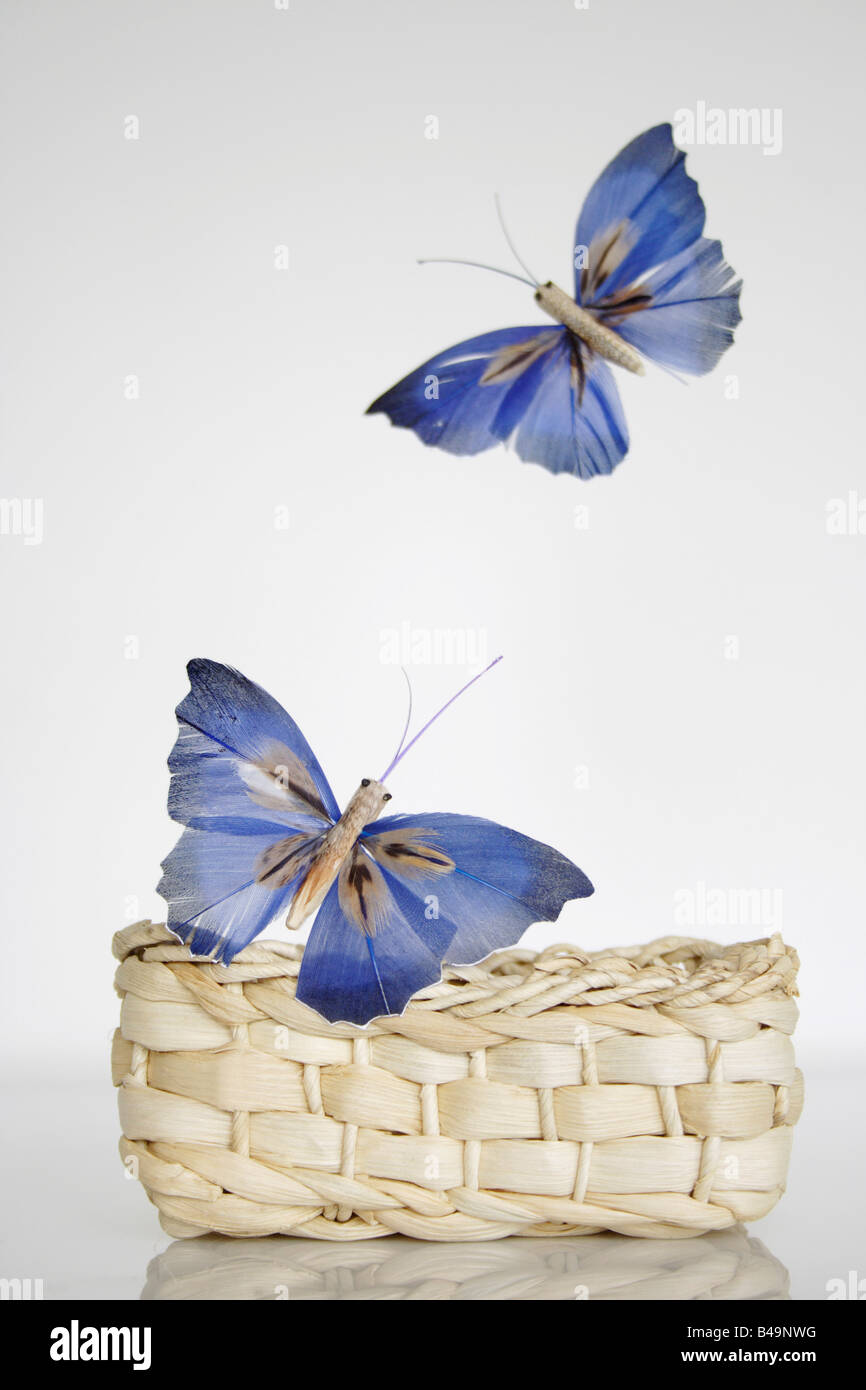Butterfly: (156, 646, 610, 1026), (360, 121, 748, 485)
